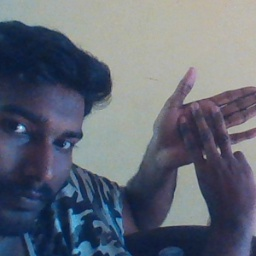M: (150, 65, 256, 236)
